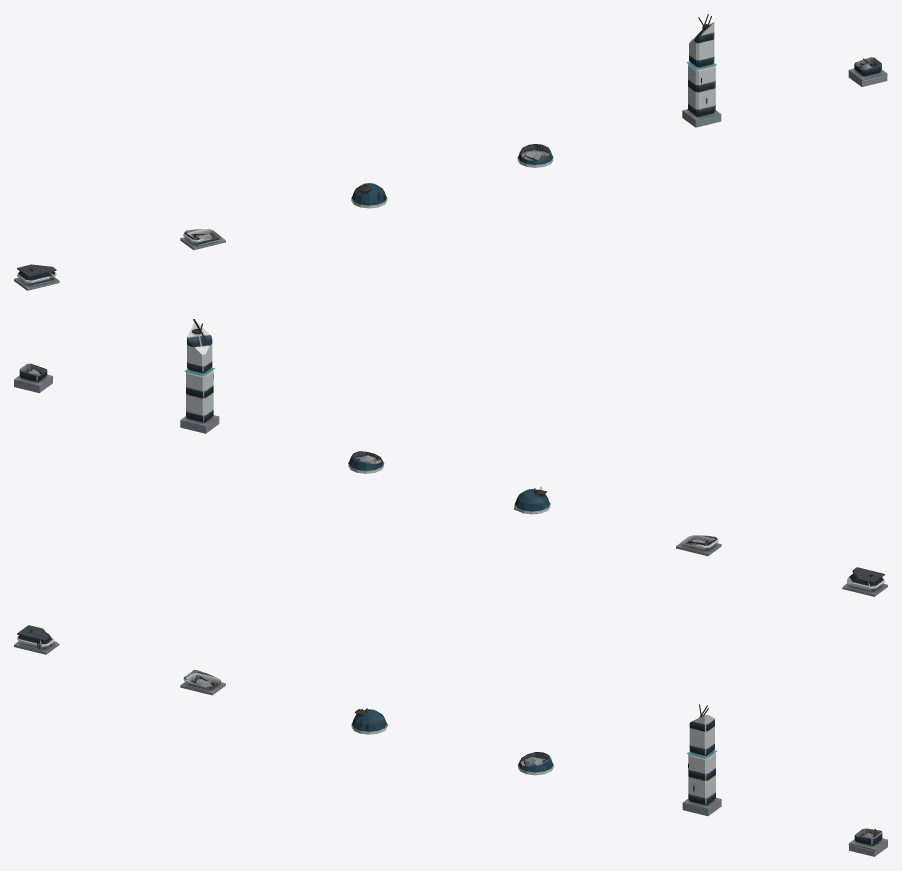
File: future-houses-damage.glb
The picture shows the model from 3 angles, top to bottom: view 1: azimuth 30°, elevation 25°; view 2: azimuth 150°, elevation 25°; view 3: azimuth 330°, elevation 25°; orthographic projection.
Parts seen in each view (by area): view 1: LOD0.004, LOD0, LOD0.005, LOD0.002, LOD0.003, LOD0.001; view 2: LOD0.004, LOD0, LOD0.005, LOD0.002, LOD0.001, LOD0.003; view 3: LOD0.004, LOD0, LOD0.005, LOD0.002, LOD0.001, LOD0.003.
Boxes of the visible parts, x1=… form: LOD0.004: x1=682, y1=14, x2=721, y2=127; LOD0: x1=14, y1=264, x2=59, y2=290; LOD0.005: x1=848, y1=57, x2=887, y2=86; LOD0.002: x1=351, y1=183, x2=387, y2=208; LOD0.003: x1=517, y1=144, x2=553, y2=167; LOD0.001: x1=180, y1=229, x2=225, y2=250; LOD0.004: x1=180, y1=319, x2=219, y2=433; LOD0: x1=842, y1=567, x2=887, y2=596; LOD0.005: x1=14, y1=363, x2=53, y2=393; LOD0.002: x1=514, y1=487, x2=550, y2=514; LOD0.001: x1=676, y1=535, x2=721, y2=556; LOD0.003: x1=348, y1=451, x2=384, y2=473; LOD0.004: x1=682, y1=704, x2=721, y2=816; LOD0: x1=14, y1=625, x2=59, y2=654; LOD0.005: x1=848, y1=828, x2=887, y2=856; LOD0.002: x1=351, y1=708, x2=387, y2=734; LOD0.001: x1=180, y1=670, x2=225, y2=695; LOD0.003: x1=517, y1=752, x2=553, y2=775.
Size of what is drawn, in the model's own units: 15.52 by 1.81 by 0.5656.
1 material, 1 textured.
